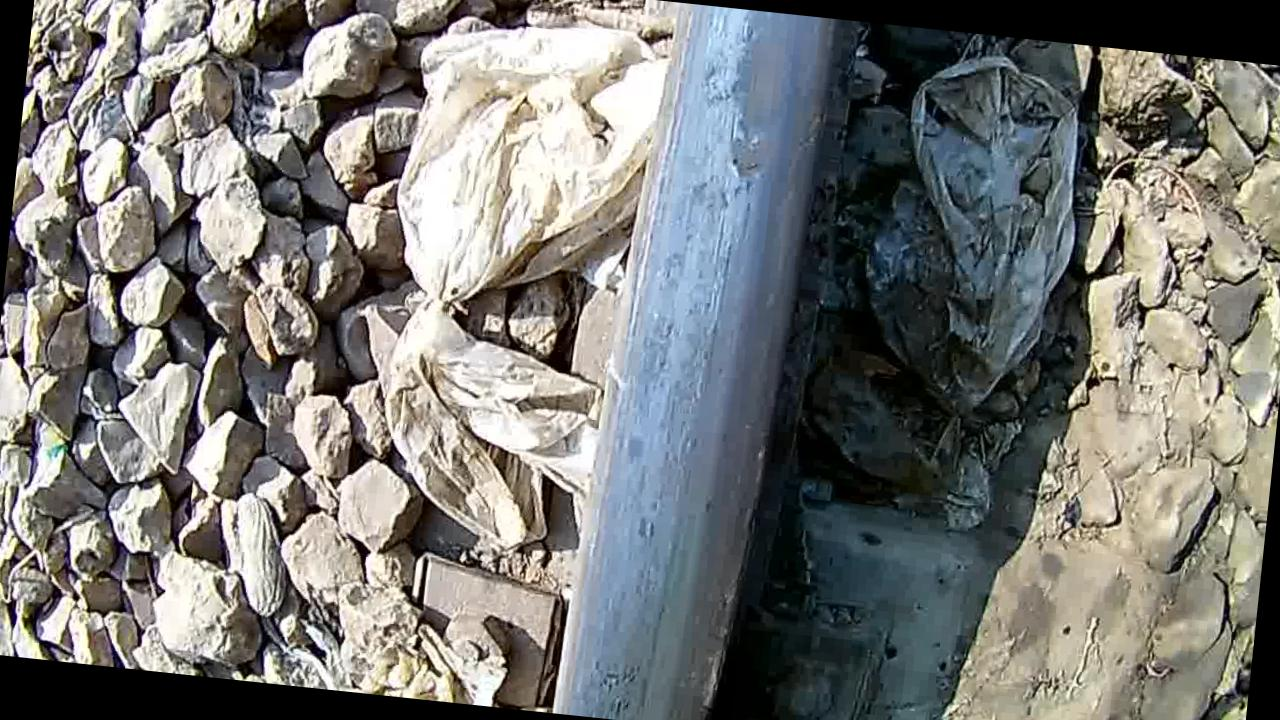bolt_missing: (659, 4, 841, 240)
